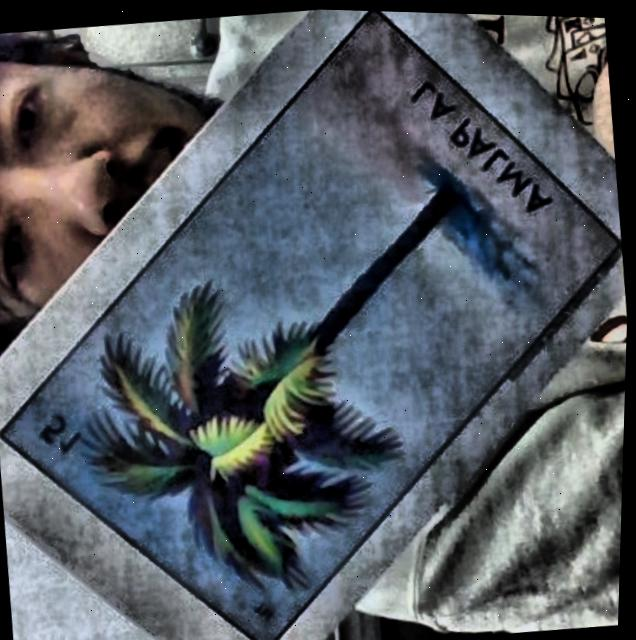La Palma: (4, 8, 618, 640)
